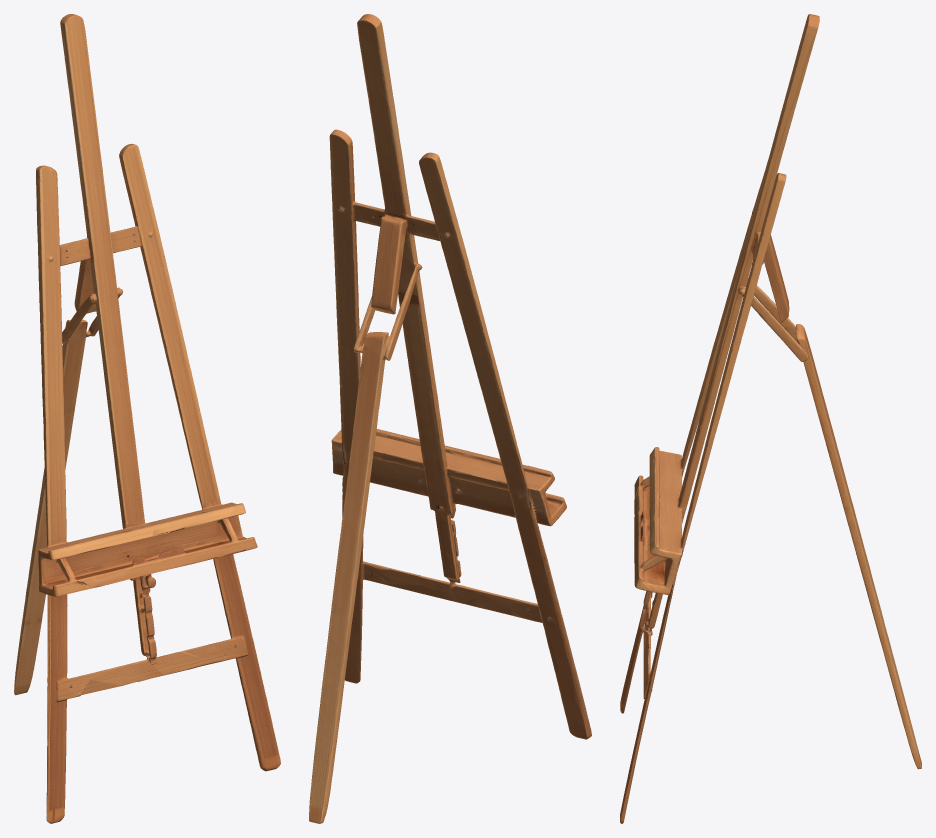
File: easel.glb
3 views of the same model, side by side, from view 1: azimuth 30°, elevation 25°; view 2: azimuth 150°, elevation 25°; view 3: azimuth 270°, elevation 25° (orthographic). The views are drawn at different scales.
Bounding box in the file's own units: 0.6495 × 1.9 × 0.6917.
1 material, 1 textured.
